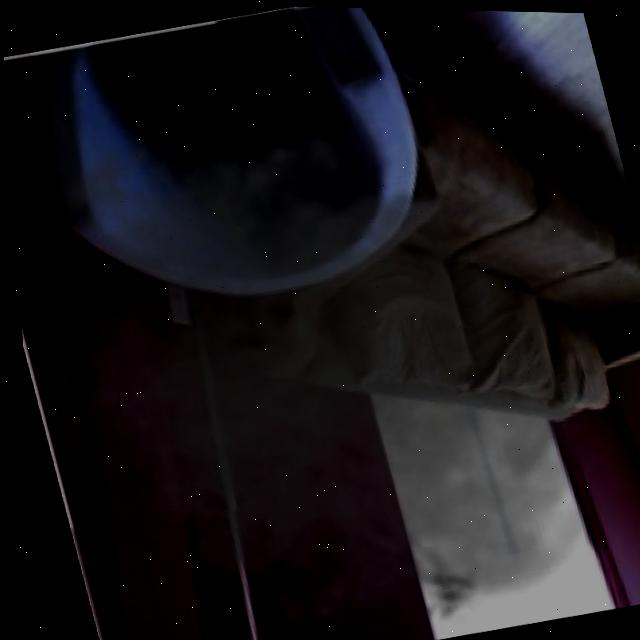Smoke: (8, 55, 640, 640)
